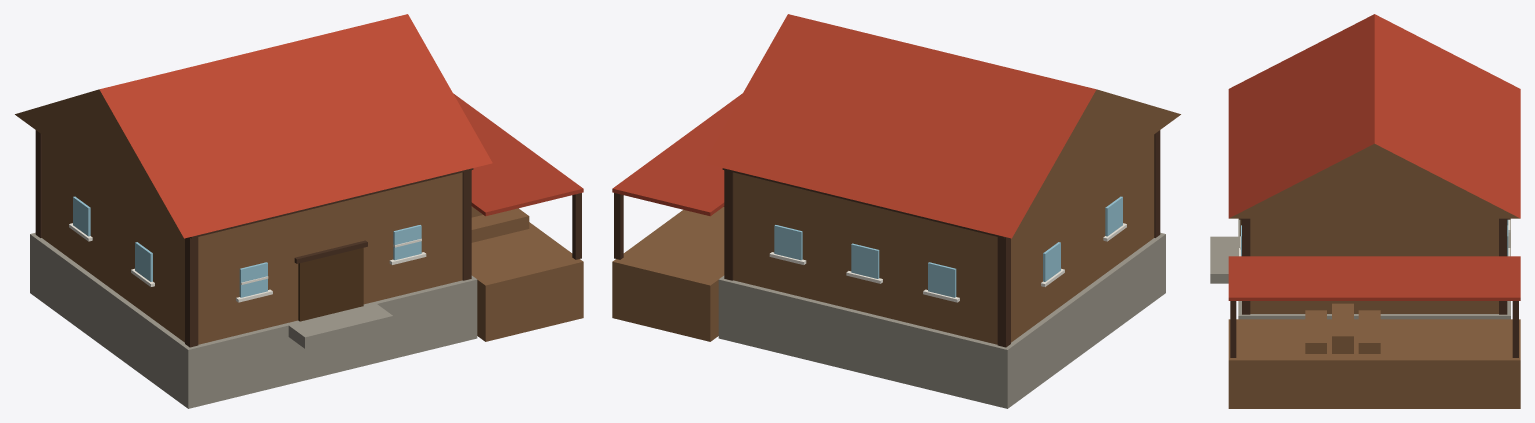
File: carpenter.glb
3 views of the same model, side by side, from view 1: azimuth 30°, elevation 25°; view 2: azimuth 150°, elevation 25°; view 3: azimuth 270°, elevation 25° (orthographic). The views are drawn at different scales.
Parts seen in each view (by area): view 1: carpenter-col; view 2: carpenter-col; view 3: carpenter-col.
Part boxes in pixels (box(x1,y1,x2,y2)): carpenter-col: box(15, 14, 583, 408); carpenter-col: box(612, 14, 1180, 408); carpenter-col: box(1210, 14, 1520, 408).
Size of the model in its own units: 16.3 by 10.3 by 12.75.
